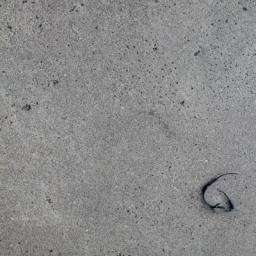FOD: (196, 169, 246, 218)
